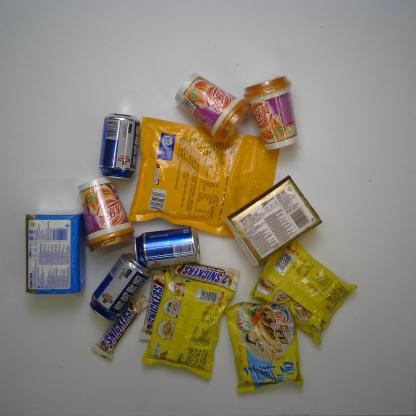Alcohol: (87, 252, 153, 323), (97, 110, 142, 181), (132, 226, 202, 270)
Chocolate: (90, 290, 150, 360), (173, 257, 242, 294), (137, 265, 168, 342)
Dried Fruit: (126, 116, 280, 237)
Instant Drink: (173, 69, 253, 144), (244, 73, 301, 151), (77, 176, 134, 254)
Instant Noodles: (251, 234, 359, 348), (135, 261, 232, 380), (222, 295, 308, 397)
Tissue: (222, 174, 326, 270), (22, 211, 84, 297)
